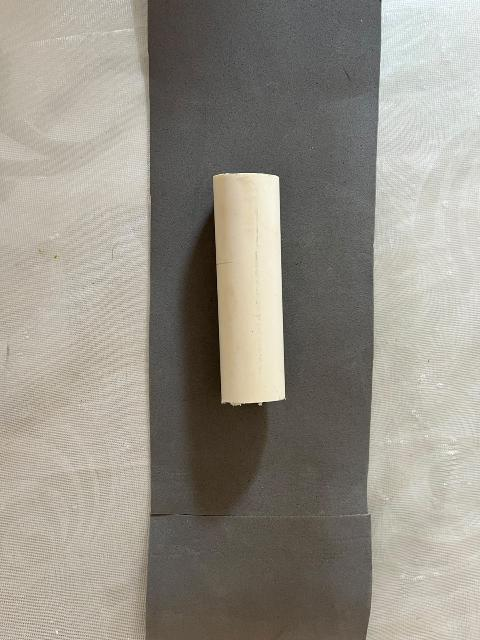PVC: (175, 140, 346, 459)
